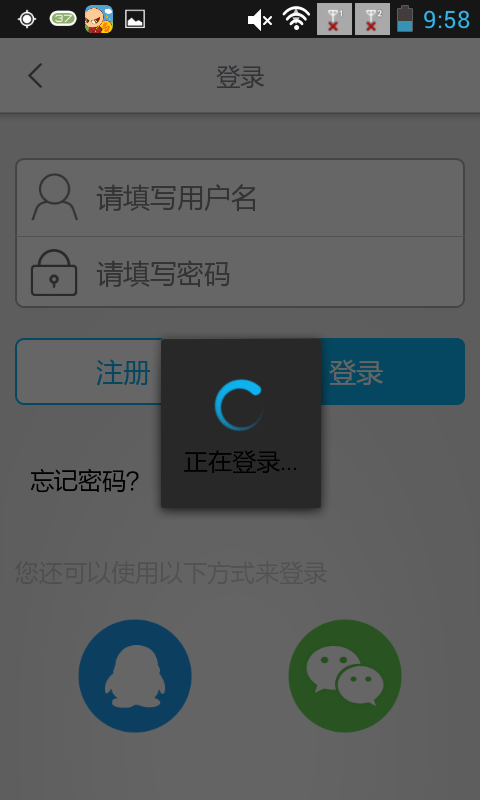textview: (10, 151, 472, 312)
